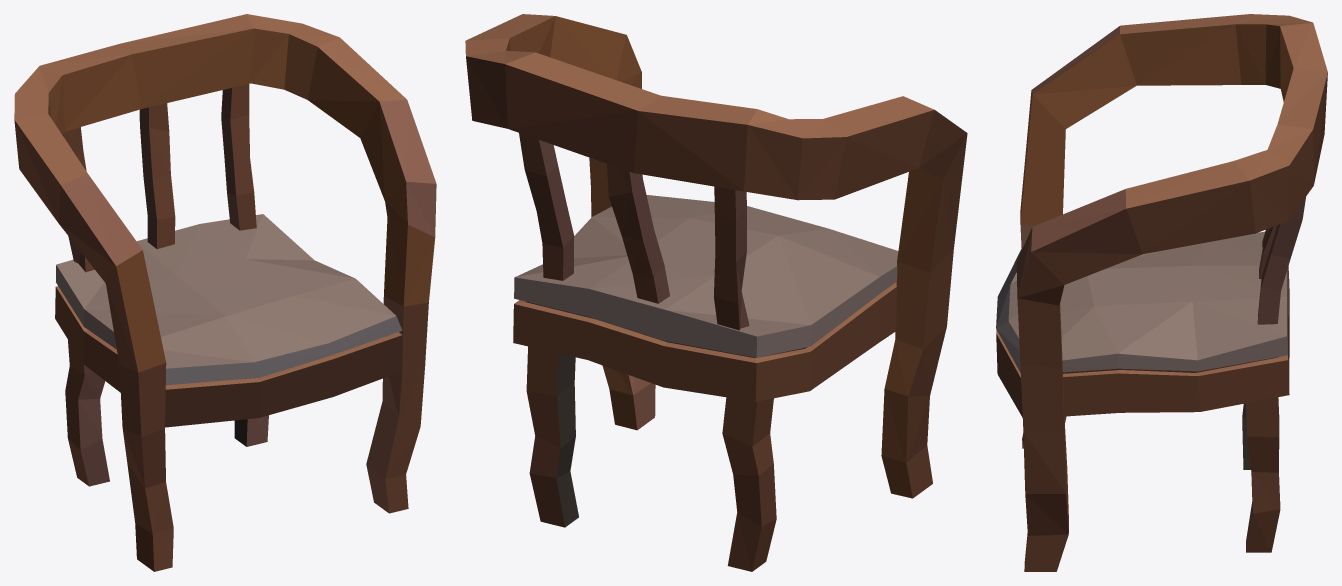
File: chair_downstairs.fbx
The picture shows the model from 3 angles, left to right: view 1: azimuth 30°, elevation 25°; view 2: azimuth 150°, elevation 25°; view 3: azimuth 270°, elevation 25°; orthographic projection. The views are drawn at different scales.
Visible parts, largest first — view 1: chair; view 2: chair; view 3: chair.
Boxes of the visible parts, x1,y1,x2,y2 form: chair: (14,14,436,571); chair: (465,14,967,571); chair: (996,14,1327,571).
Size of the model in its own units: 69.42 by 76.47 by 53.6.
